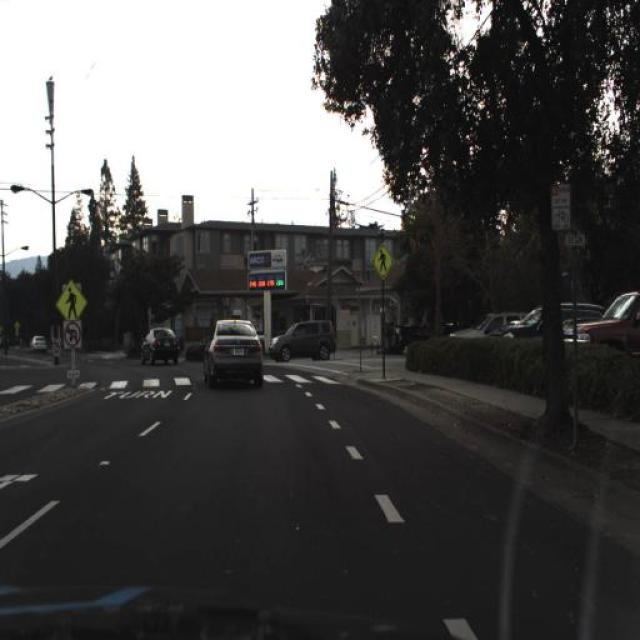car: (201, 314, 265, 394), (492, 296, 608, 338), (496, 298, 605, 341), (578, 290, 638, 360), (268, 319, 338, 369), (134, 317, 188, 377), (447, 301, 524, 343), (138, 323, 182, 371), (31, 332, 48, 352)
